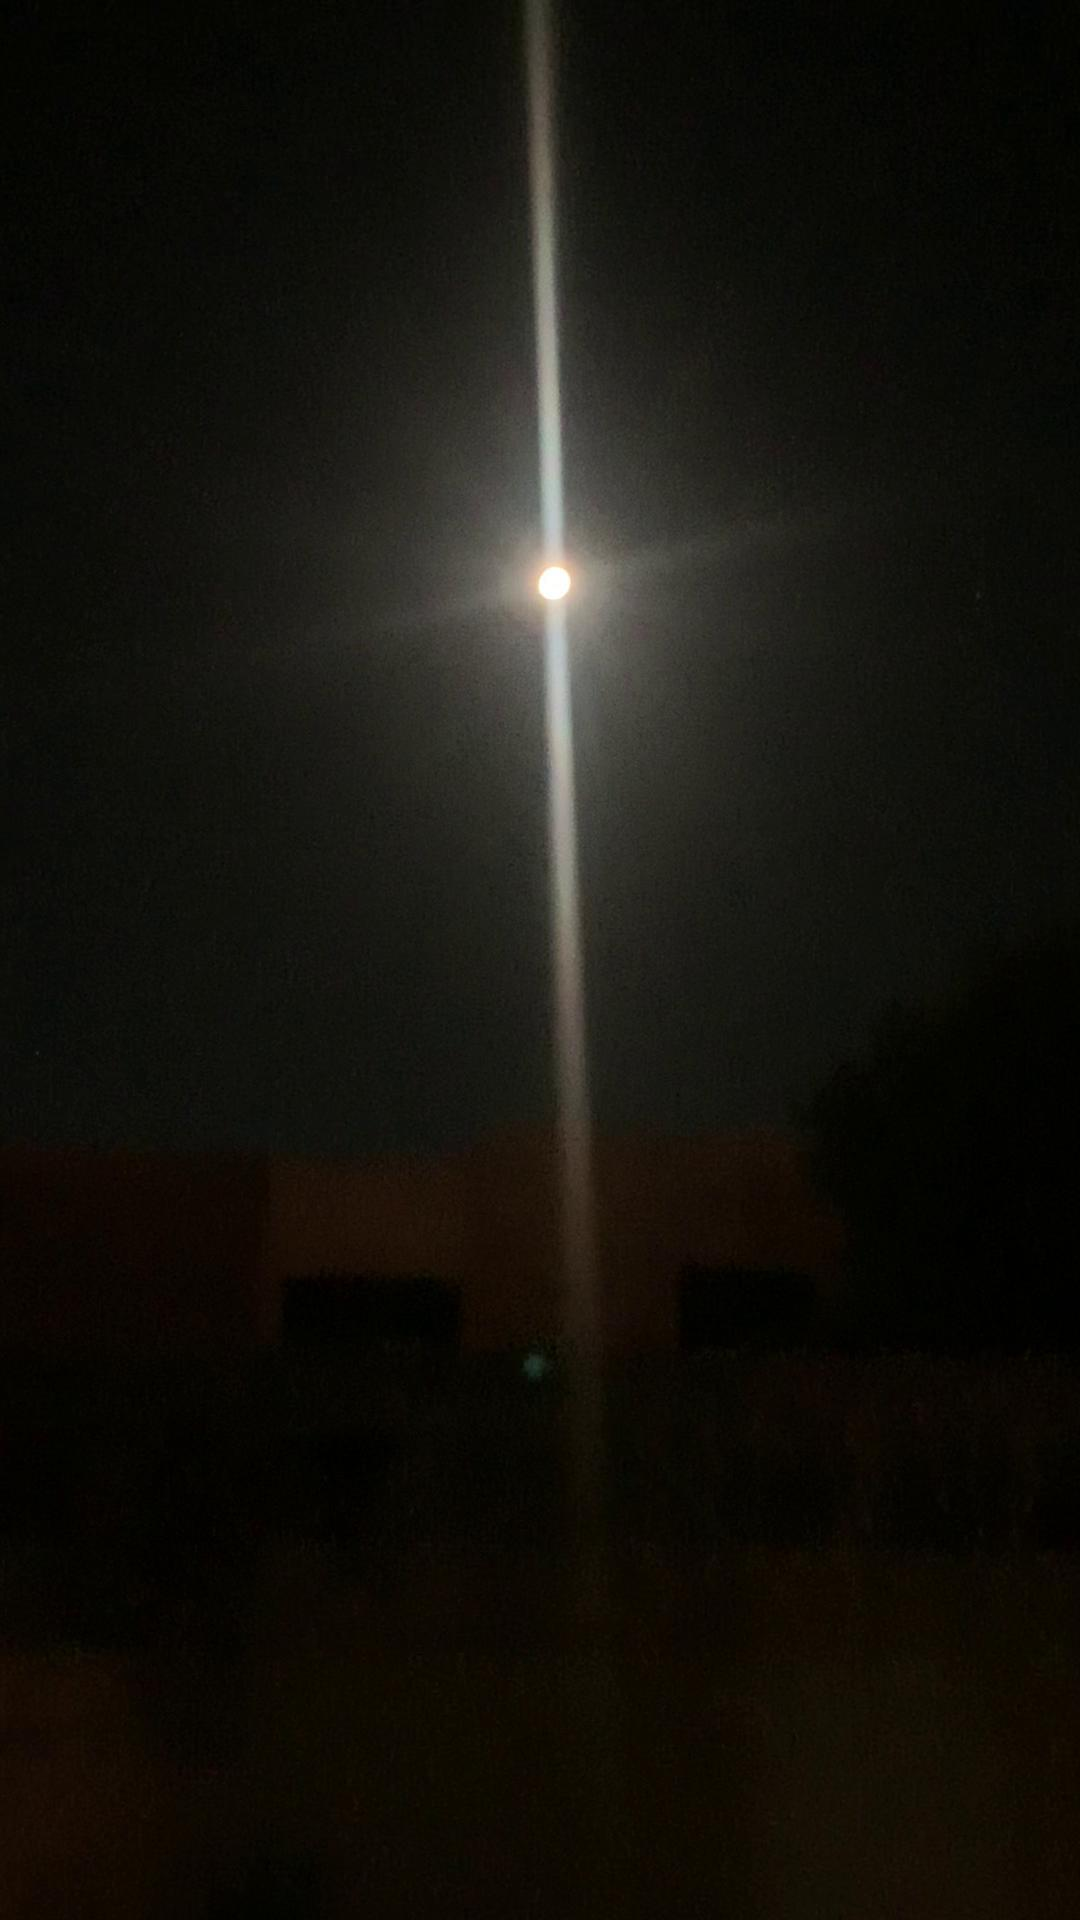moon: (504, 538, 612, 637)
